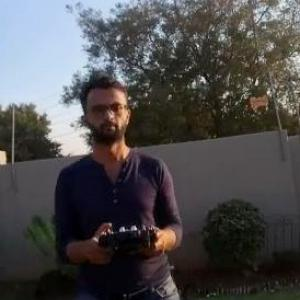follow: (50, 70, 193, 299)
